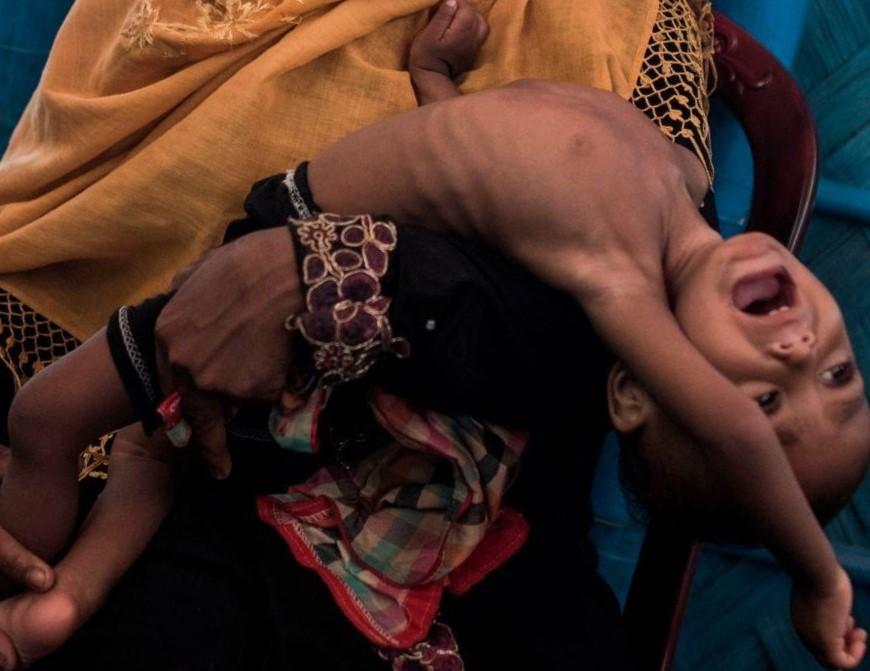Stunting: (638, 188, 870, 610)
